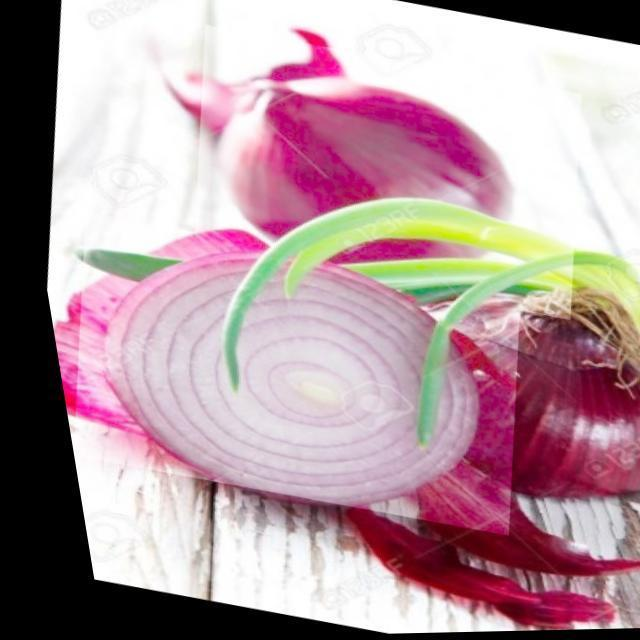Onion: (27, 204, 541, 544), (156, 19, 606, 328)
